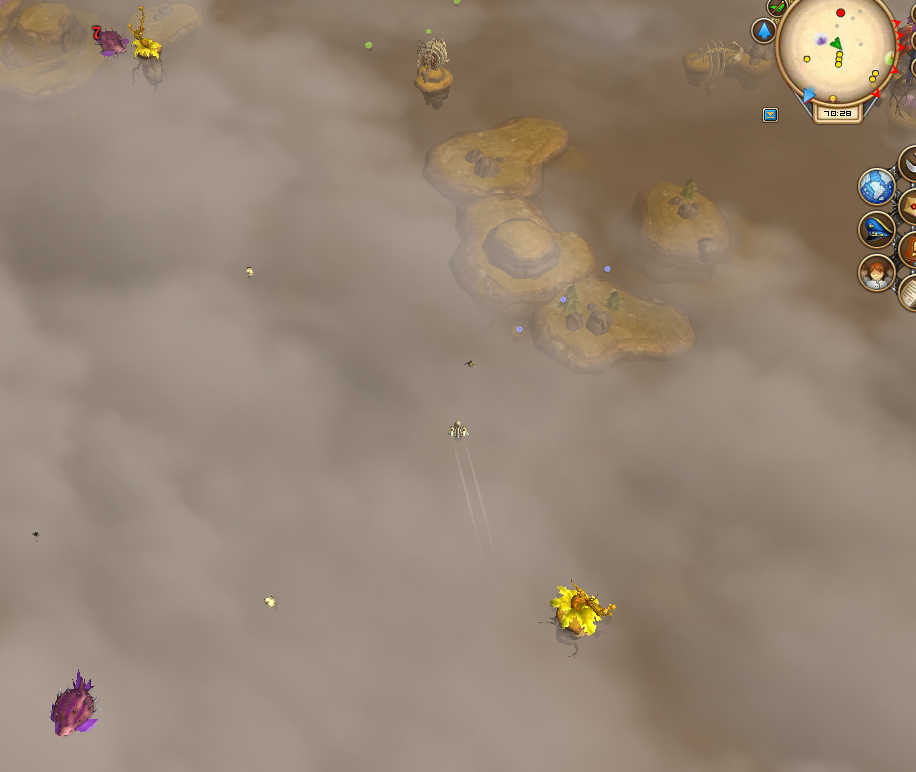dandelion-empty: (541, 576, 621, 658), (126, 6, 165, 91)
fluff: (556, 290, 572, 309), (512, 320, 528, 339), (599, 261, 617, 275), (361, 37, 375, 53), (450, 0, 465, 9), (423, 26, 434, 37)
